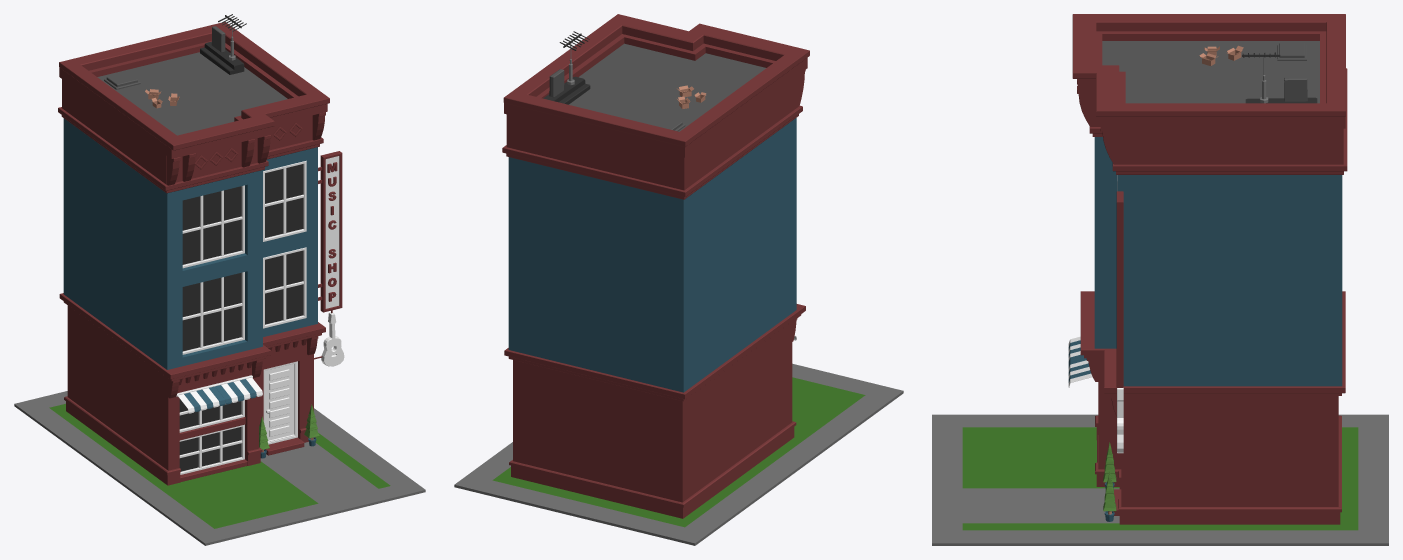
Rendered from music-shop.glb.
3 views of the same model, side by side, from view 1: azimuth 30°, elevation 25°; view 2: azimuth 150°, elevation 25°; view 3: azimuth 270°, elevation 25° (orthographic). The views are drawn at different scales.
Visible parts, largest first — view 1: musicshop; view 2: musicshop; view 3: musicshop.
Boxes of the visible parts, x1=… form: musicshop: x1=14, y1=14, x2=425, y2=545; musicshop: x1=454, y1=14, x2=903, y2=545; musicshop: x1=932, y1=14, x2=1388, y2=545.
Bounding box in the file's own units: 10 × 16.69 × 15.
Materials: 1 (1 with a texture image).
